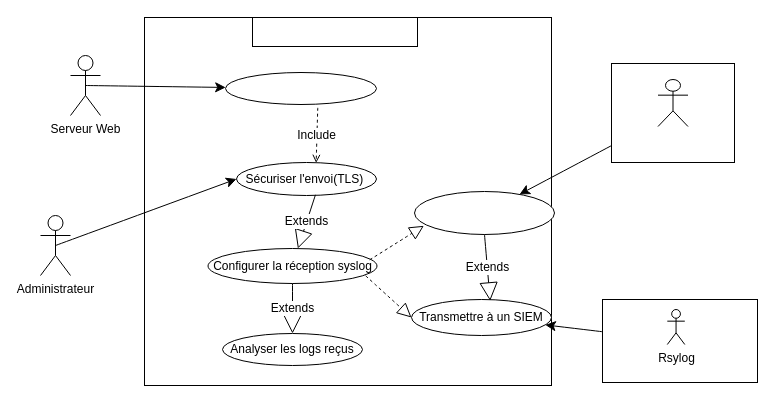
Some shapes in this 775 by 403 pixel diagram are drawn without their labels. Each missing label, with the centre of its shape:
Envoyer les logs au collecteur: (x=300, y=88)
Purger les anciens logs: (x=484, y=212)
Script externe: (x=672, y=102)
Serveur qui collecte les logs: (x=335, y=31)
